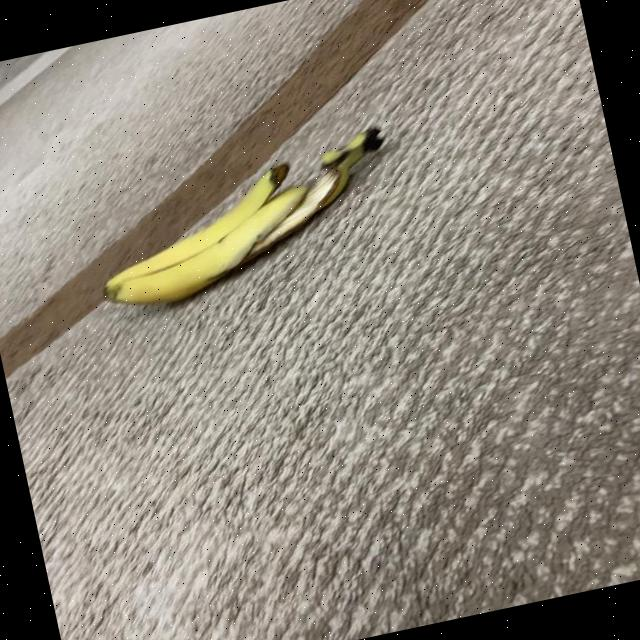banana-peel: (79, 121, 408, 317)
